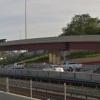Bridge: (2, 27, 99, 62)
